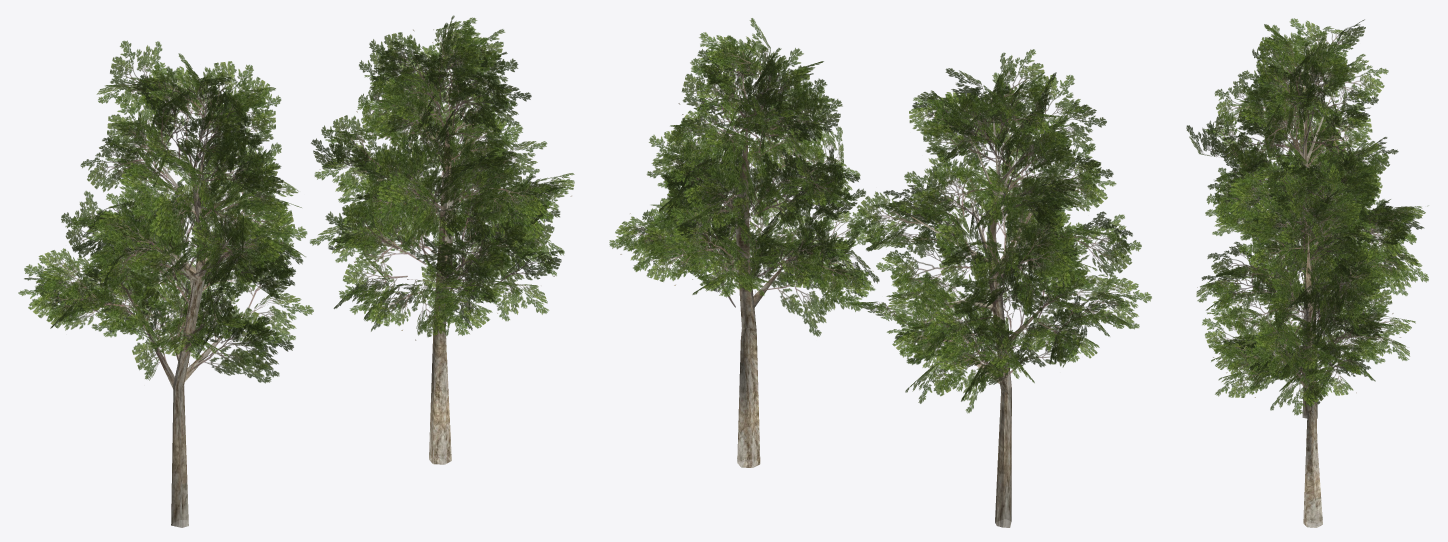
File: tree.glb
3 views of the same model, side by side, from view 1: azimuth 30°, elevation 25°; view 2: azimuth 150°, elevation 25°; view 3: azimuth 270°, elevation 25° (orthographic). The views are drawn at different scales.
Visible parts, largest first — view 1: Tree 1_Tree 1_0; view 2: Tree 1_Tree 1_0; view 3: Tree 1_Tree 1_0.
Part boxes in pixels (bbox=[...]): Tree 1_Tree 1_0: bbox=[18, 15, 574, 527]; Tree 1_Tree 1_0: bbox=[609, 18, 1151, 527]; Tree 1_Tree 1_0: bbox=[1186, 18, 1428, 527].
Size of the model in its own units: 10.73 by 8.99 by 5.22.
Materials: 1 (1 with a texture image).
